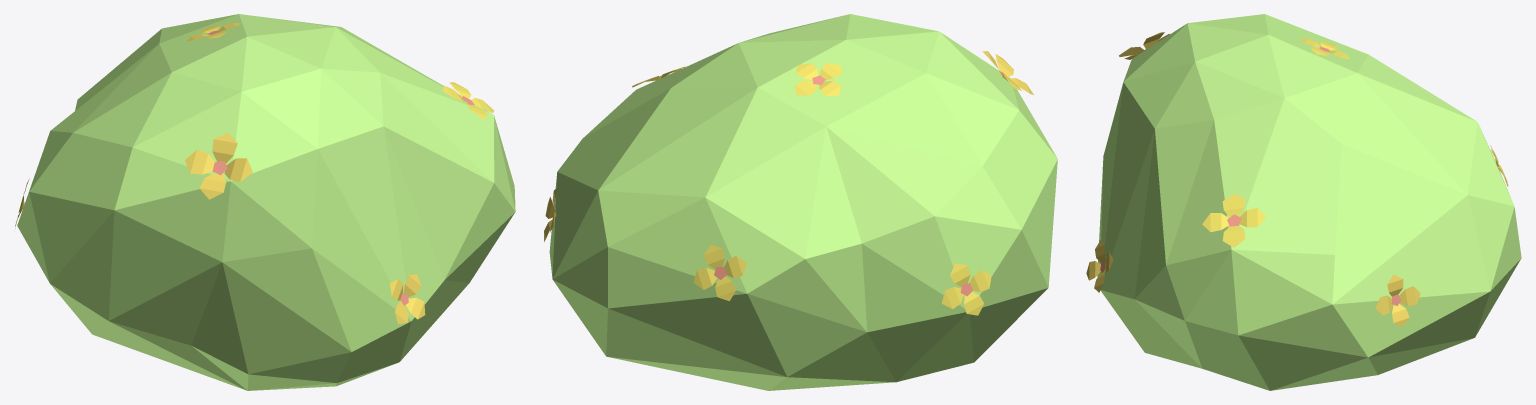
Rendered from FlowerBush_a_l_05.fbx.
3 views of the same model, side by side, from view 1: azimuth 30°, elevation 25°; view 2: azimuth 150°, elevation 25°; view 3: azimuth 270°, elevation 25° (orthographic). The views are drawn at different scales.
Visible parts, largest first — view 1: FlowerBush_a_l_05; view 2: FlowerBush_a_l_05; view 3: FlowerBush_a_l_05.
Boxes of the visible parts, left/top/right/bottom form: FlowerBush_a_l_05: left=15, top=14, right=515, bottom=390; FlowerBush_a_l_05: left=544, top=14, right=1057, bottom=390; FlowerBush_a_l_05: left=1086, top=14, right=1521, bottom=390.
Size of the model in its own units: 336 by 238 by 301.
